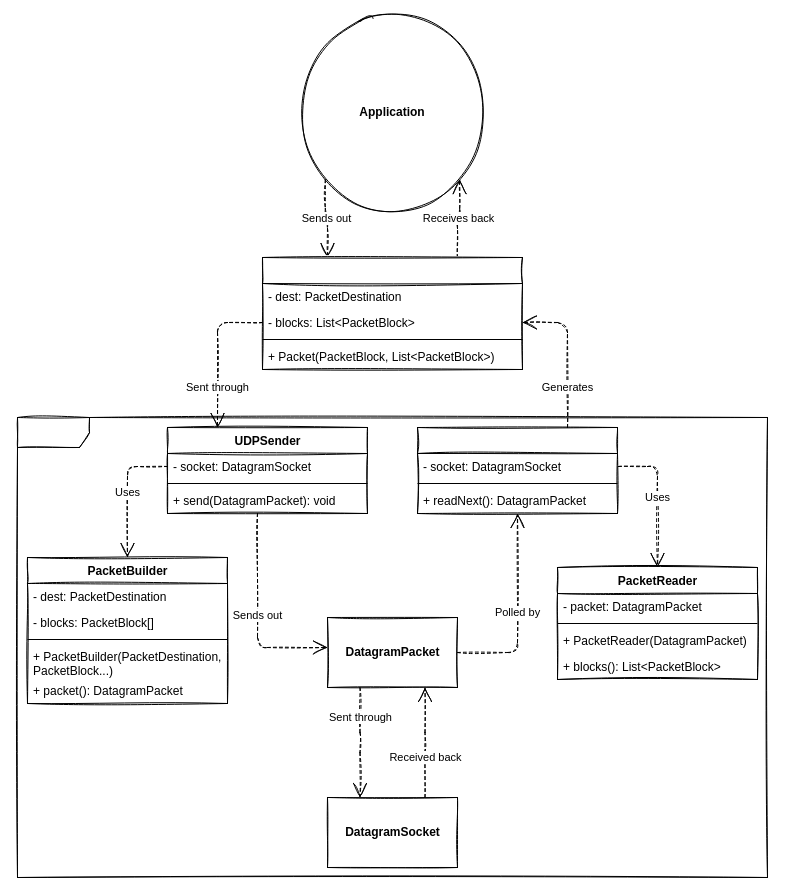
Some shapes in this 785 by 895 pixel diagram are drawn without their labels. The shapes that lost their labels are listed below. From the top down, each one's box as (x1, y1, x2, y2) in pixels, then its label:
(262, 256, 522, 370): PacketModel
(416, 426, 618, 514): UDPReceiver
(16, 416, 768, 878): networking
